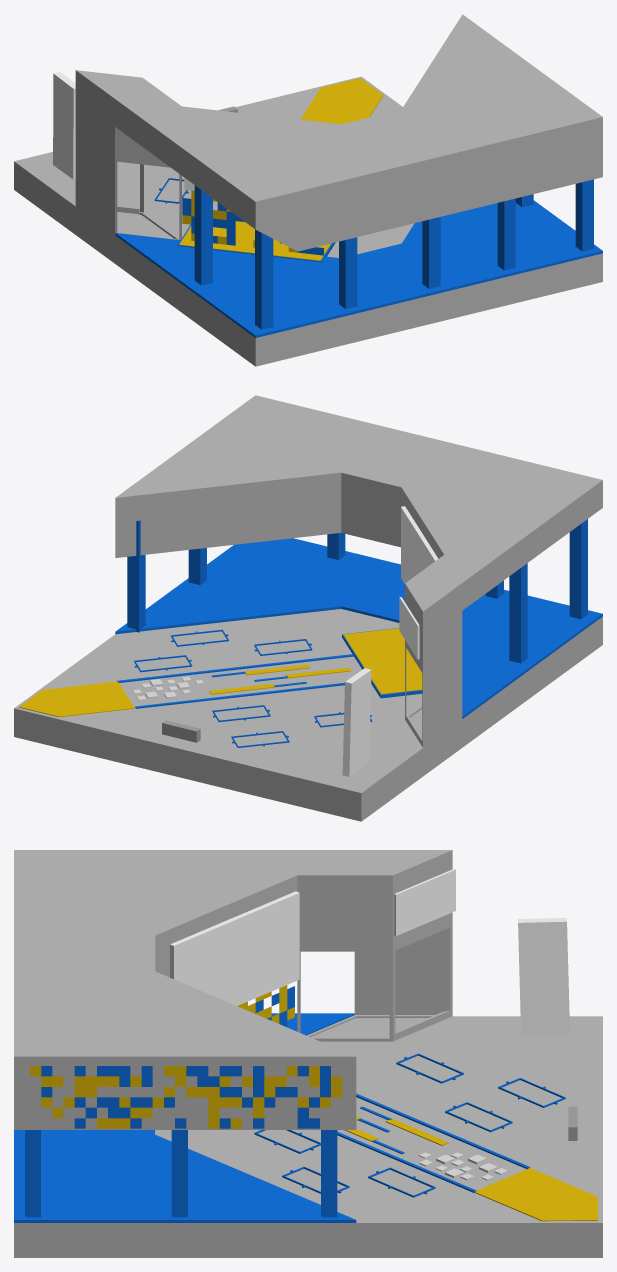
3 renders of one model, top to bottom at view 1: azimuth 30°, elevation 25°; view 2: azimuth 150°, elevation 25°; view 3: azimuth 270°, elevation 25°, orthographic. The views are drawn at different scales.
Visible parts, largest first — view 1: ground.002, ground, ground.001, 立方体.027, 立方体.035, 立方体.005, 立方体.037, 立方体.007, 立方体.004, 立方体.002, 立方体.003, 立方体.001 (+2 smaller); view 2: ground.002, ground, ground.001, 立方体.007, 立方体.027, 立方体.035, 立方体.037, 立方体.005, 立方体.028, 立方体, 立方体.041, 立方体.039 (+3 smaller); view 3: ground.002, ground, ground.001, 立方体.028, 平面, 立方体.035, 平面.001, 立方体.027, 立方体.041, 立方体, 立方体.036, 立方体.001 (+3 smaller).
Part boxes in pixels (left/top/right/bottom): ground.002: left=75, top=14, right=602, bottom=251; ground: left=14, top=76, right=602, bottom=366; ground.001: left=115, top=200, right=602, bottom=337; 立方体.027: left=300, top=78, right=383, bottom=124; 立方体.035: left=53, top=71, right=75, bottom=179; 立方体.005: left=255, top=229, right=273, bottom=329; 立方体.037: left=194, top=185, right=212, bottom=285; 立方体.007: left=179, top=221, right=331, bottom=260; 立方体.004: left=339, top=237, right=357, bottom=308; 立方体.002: left=497, top=198, right=515, bottom=270; 立方体.003: left=422, top=217, right=440, bottom=288; 立方体.001: left=575, top=179, right=593, bottom=251; ground.002: left=115, top=395, right=602, bottom=748; ground: left=14, top=609, right=602, bottom=821; ground.001: left=115, top=538, right=602, bottom=718; 立方体.007: left=343, top=628, right=422, bottom=694; 立方体.027: left=19, top=681, right=134, bottom=717; 立方体.035: left=342, top=668, right=371, bottom=776; 立方体.037: left=509, top=563, right=527, bottom=663; 立方体.005: left=569, top=519, right=587, bottom=619; 立方体.028: left=401, top=506, right=438, bottom=583; 立方体: left=127, top=520, right=145, bottom=632; 立方体.041: left=399, top=597, right=419, bottom=659; 立方体.039: left=117, top=654, right=353, bottom=682; ground.002: left=14, top=850, right=452, bottom=1129; ground: left=14, top=951, right=602, bottom=1257; ground.001: left=14, top=1013, right=356, bottom=1222; 立方体.028: left=170, top=891, right=299, bottom=1005; 平面: left=30, top=1066, right=342, bottom=1128; 立方体.035: left=518, top=918, right=569, bottom=1035; 平面.001: left=41, top=1066, right=330, bottom=1128; 立方体.027: left=474, top=1168, right=597, bottom=1221; 立方体.041: left=394, top=868, right=455, bottom=935; 立方体: left=321, top=1130, right=337, bottom=1217; 立方体.036: left=171, top=1130, right=187, bottom=1217; 立方体.001: left=25, top=1130, right=40, bottom=1217.
Bounding box in the file's own units: 60.31 × 27.21 × 72.27.
